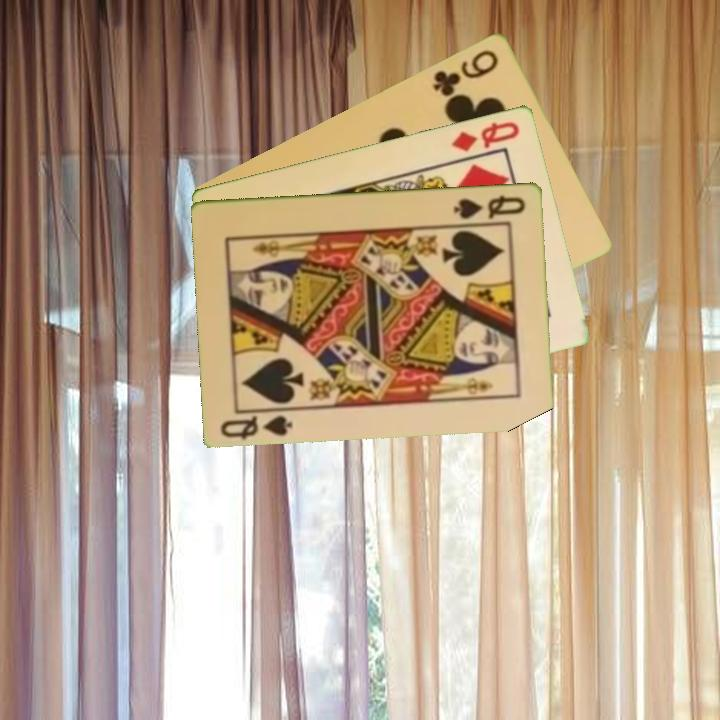9c: (429, 45, 502, 99)
Qd: (448, 117, 523, 155)
Qs: (450, 191, 529, 222), (217, 411, 296, 442)
